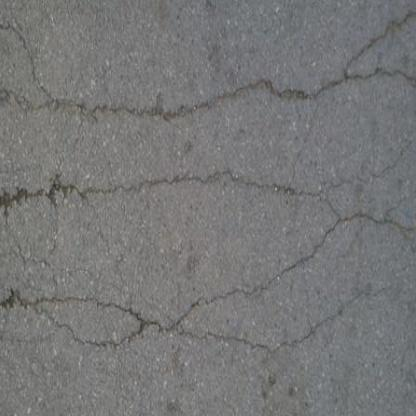Cracks: (0, 152, 416, 233), (0, 56, 416, 136), (0, 273, 344, 367), (260, 210, 389, 281), (0, 10, 69, 123), (332, 0, 416, 67), (368, 193, 416, 302)
